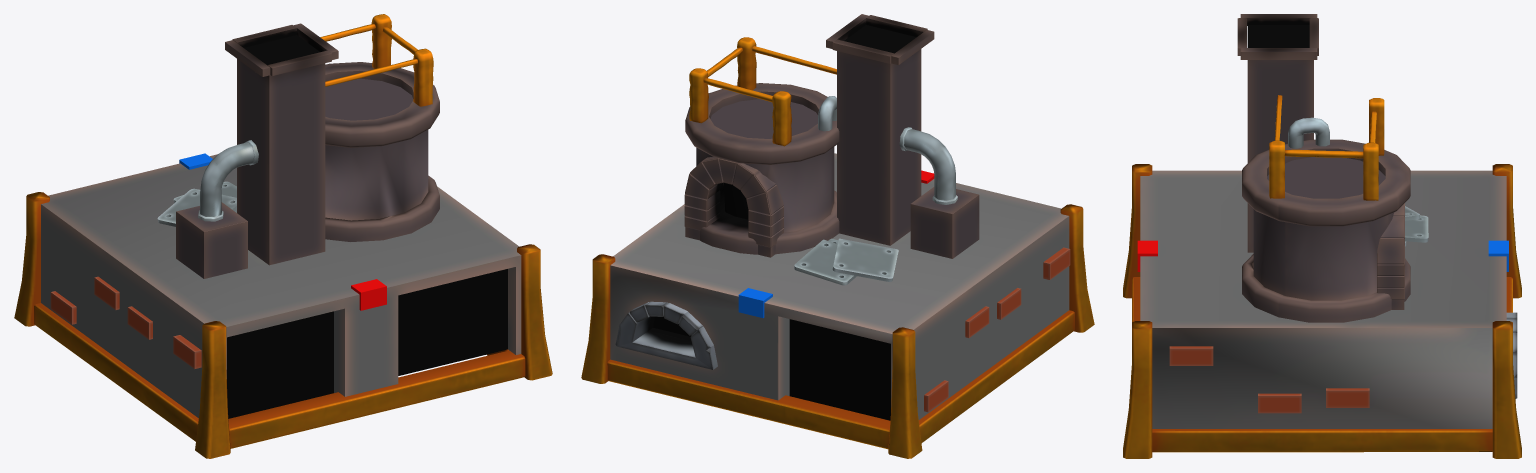
The model's file is Foundry.fbx.
The picture shows the model from 3 angles, left to right: view 1: azimuth 30°, elevation 25°; view 2: azimuth 150°, elevation 25°; view 3: azimuth 270°, elevation 25°; orthographic projection. The views are drawn at different scales.
Visible parts, largest first — view 1: Foundry_Baked; view 2: Foundry_Baked; view 3: Foundry_Baked.
Part boxes in pixels (x1=…): Foundry_Baked: x1=14, y1=14, x2=552, y2=458; Foundry_Baked: x1=581, y1=14, x2=1094, y2=458; Foundry_Baked: x1=1123, y1=14, x2=1521, y2=458.
Size of the model in its own units: 200 by 177 by 195.
Materials: 1 (1 with a texture image).
